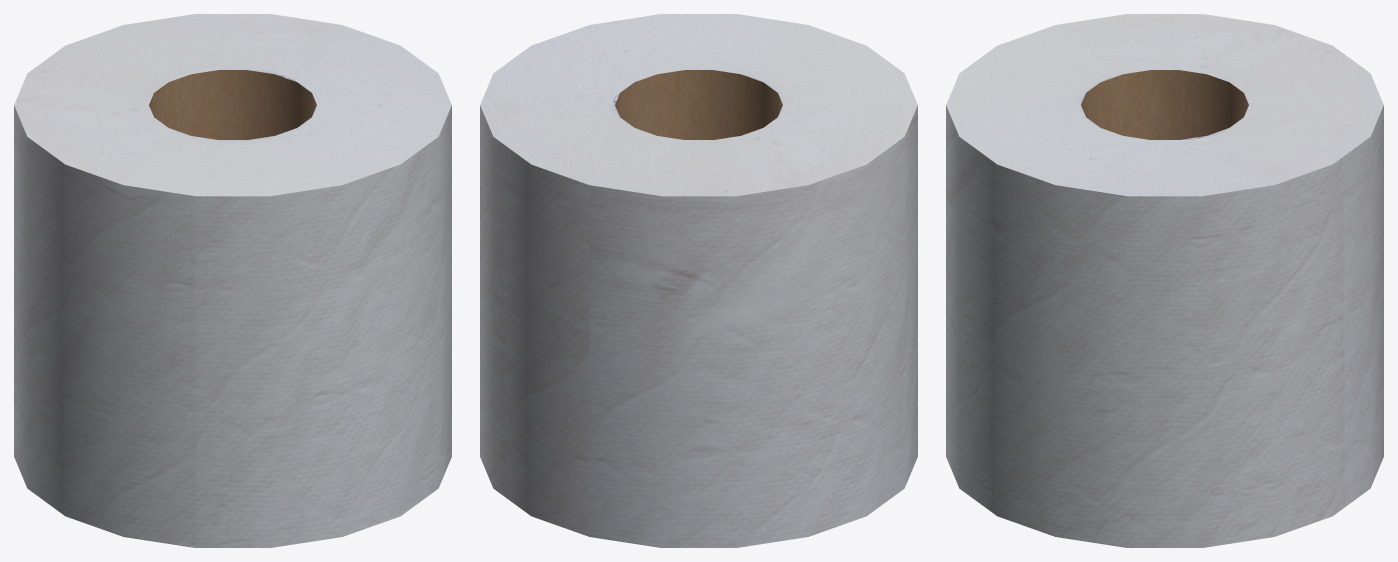
Rendered from Toilet paper.FBX.
3 views of the same model, side by side, from view 1: azimuth 30°, elevation 25°; view 2: azimuth 150°, elevation 25°; view 3: azimuth 270°, elevation 25° (orthographic).
Visible parts, largest first — view 1: toilet paper; view 2: toilet paper; view 3: toilet paper.
Part boxes in pixels (x1,y1,x2,y2): toilet paper: (14,14,451,547); toilet paper: (480,14,917,547); toilet paper: (946,14,1383,547).
Size of the model in its own units: 10.32 by 9.3 by 10.48.
1 material, 1 textured.
